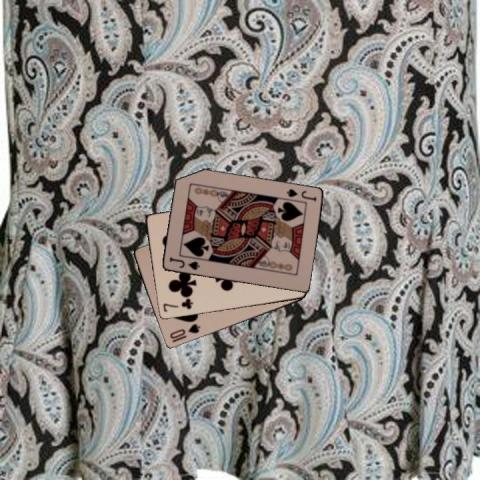10s: (167, 321, 201, 341)
7c: (160, 297, 194, 313)
Js: (166, 254, 201, 271), (284, 186, 318, 203)
